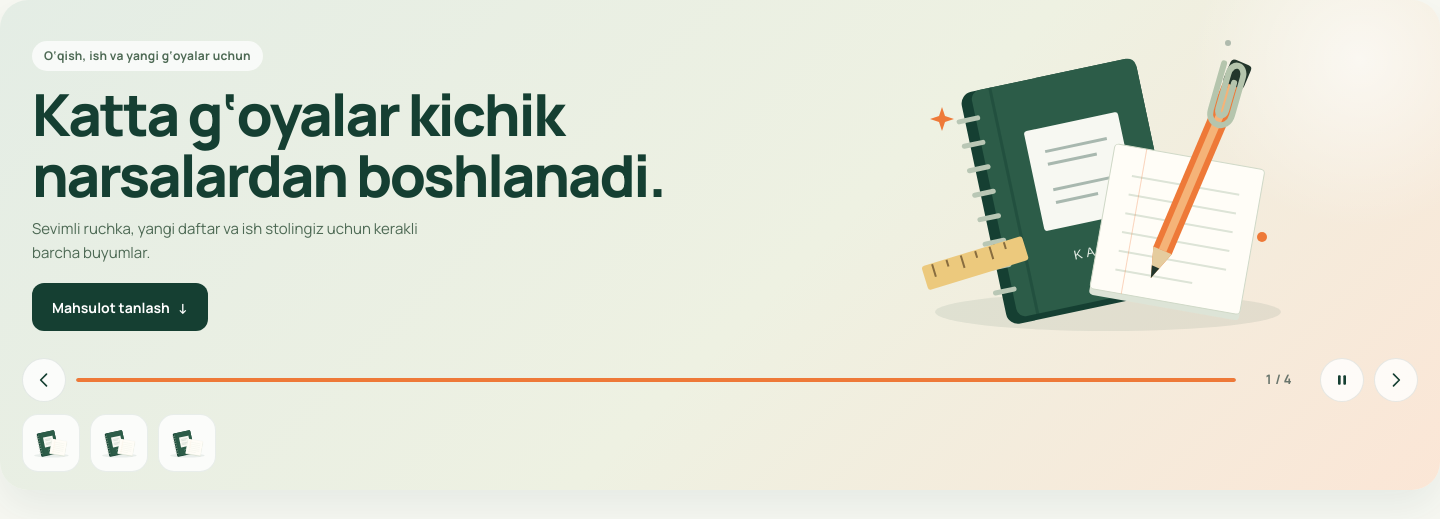
Test: HeroCarousel › jumps to an upcoming product from its thumbnail
Click the button with aria-label "Daftar 3 mahsulotiga o‘tish".
click(187, 443)  # box [158, 414, 216, 472]
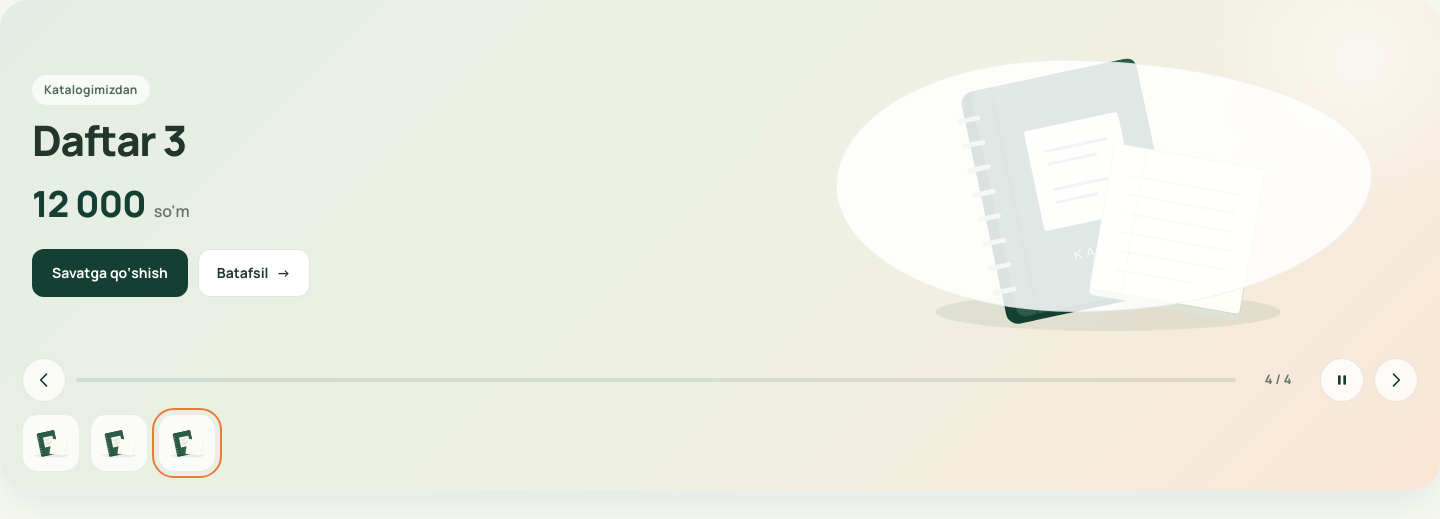
Check: the link "Daftar 3" is shown, box [32, 118, 186, 164]
Check: the text "4 / 4" is shown, box [1264, 370, 1292, 388]
